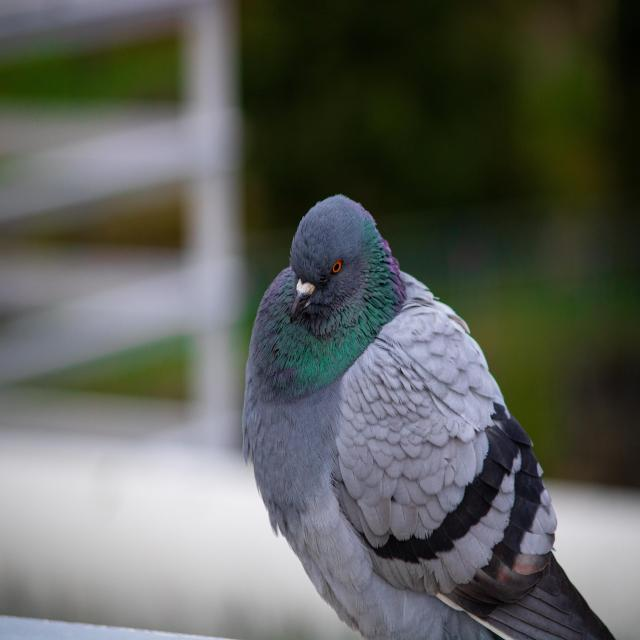Pigeon: (239, 190, 607, 640)
